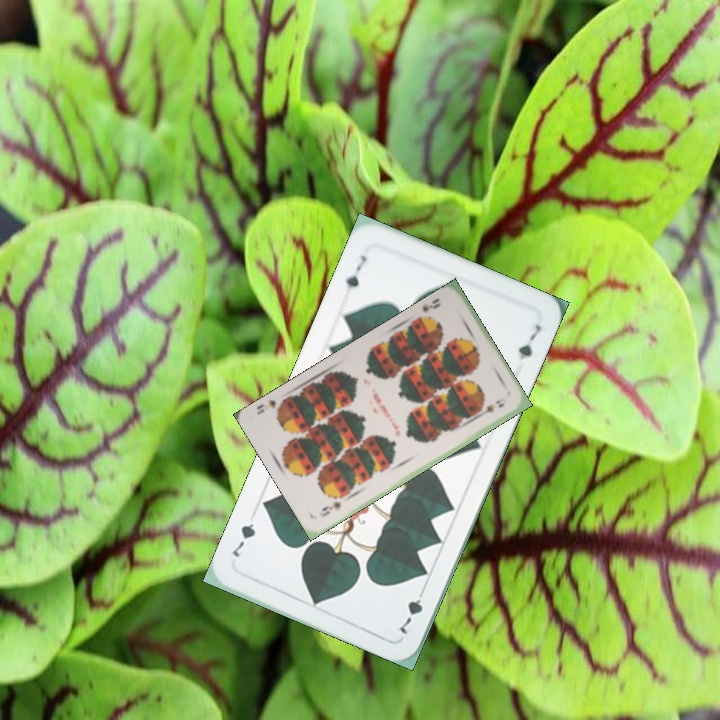G7: (394, 582, 429, 637), (342, 251, 369, 292)
S9: (413, 294, 443, 325), (315, 497, 344, 519)
